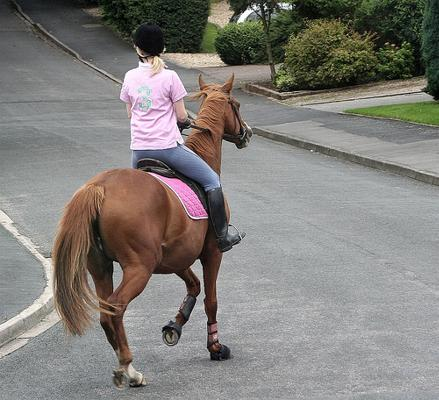person: (118, 18, 246, 254)
